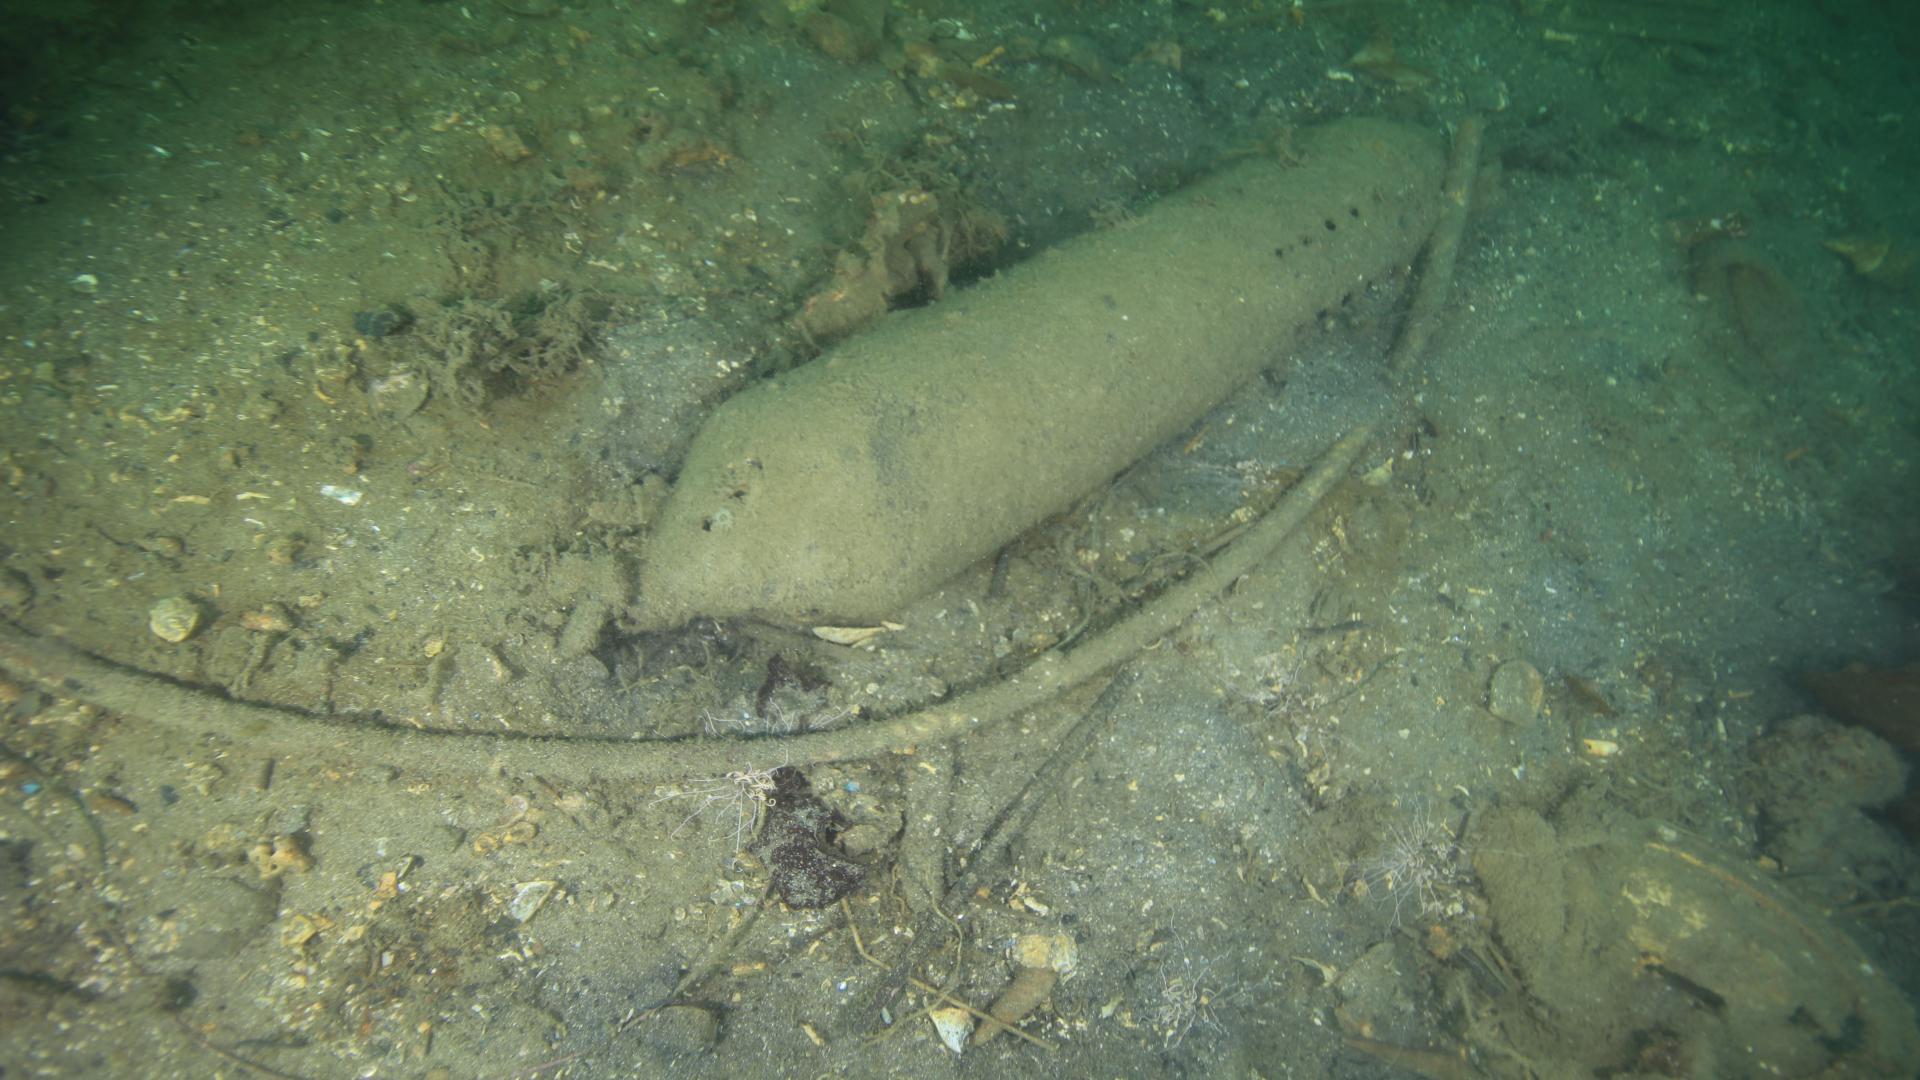eel fish trap: (622, 108, 1452, 626)
